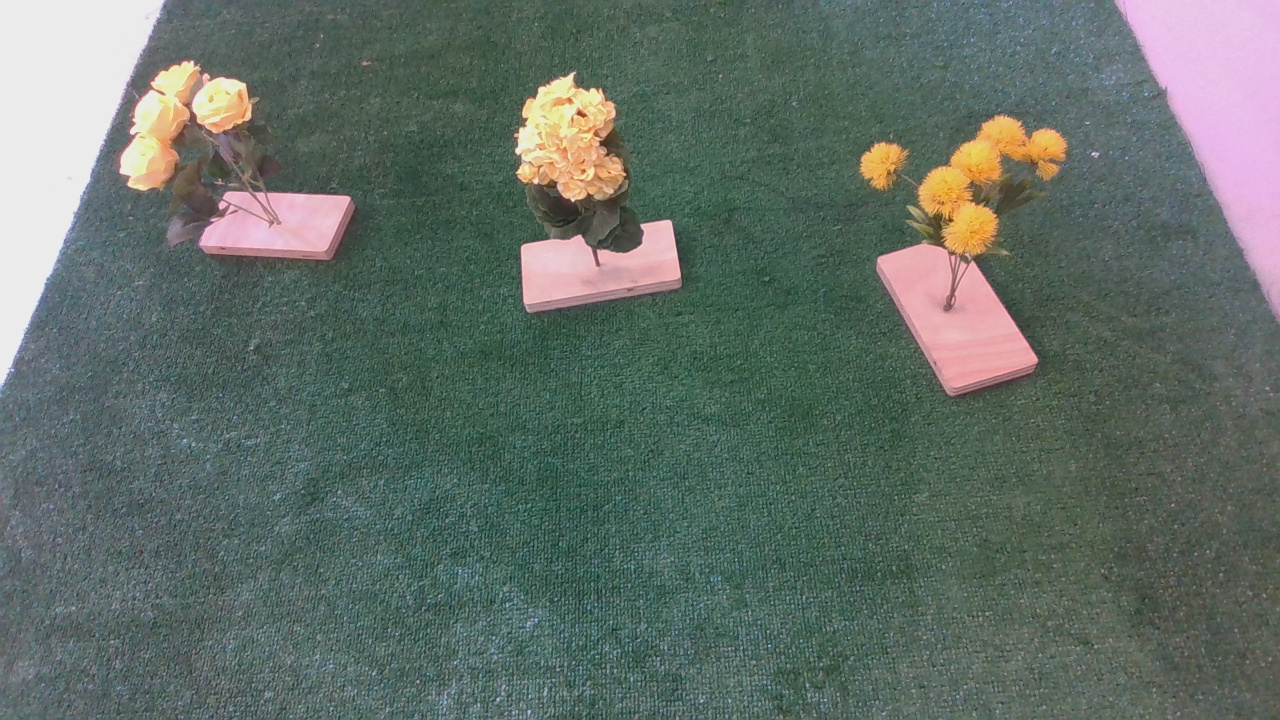dandelion: (858, 119, 1080, 276)
geranium: (513, 69, 653, 262)
rose: (119, 57, 273, 208)
